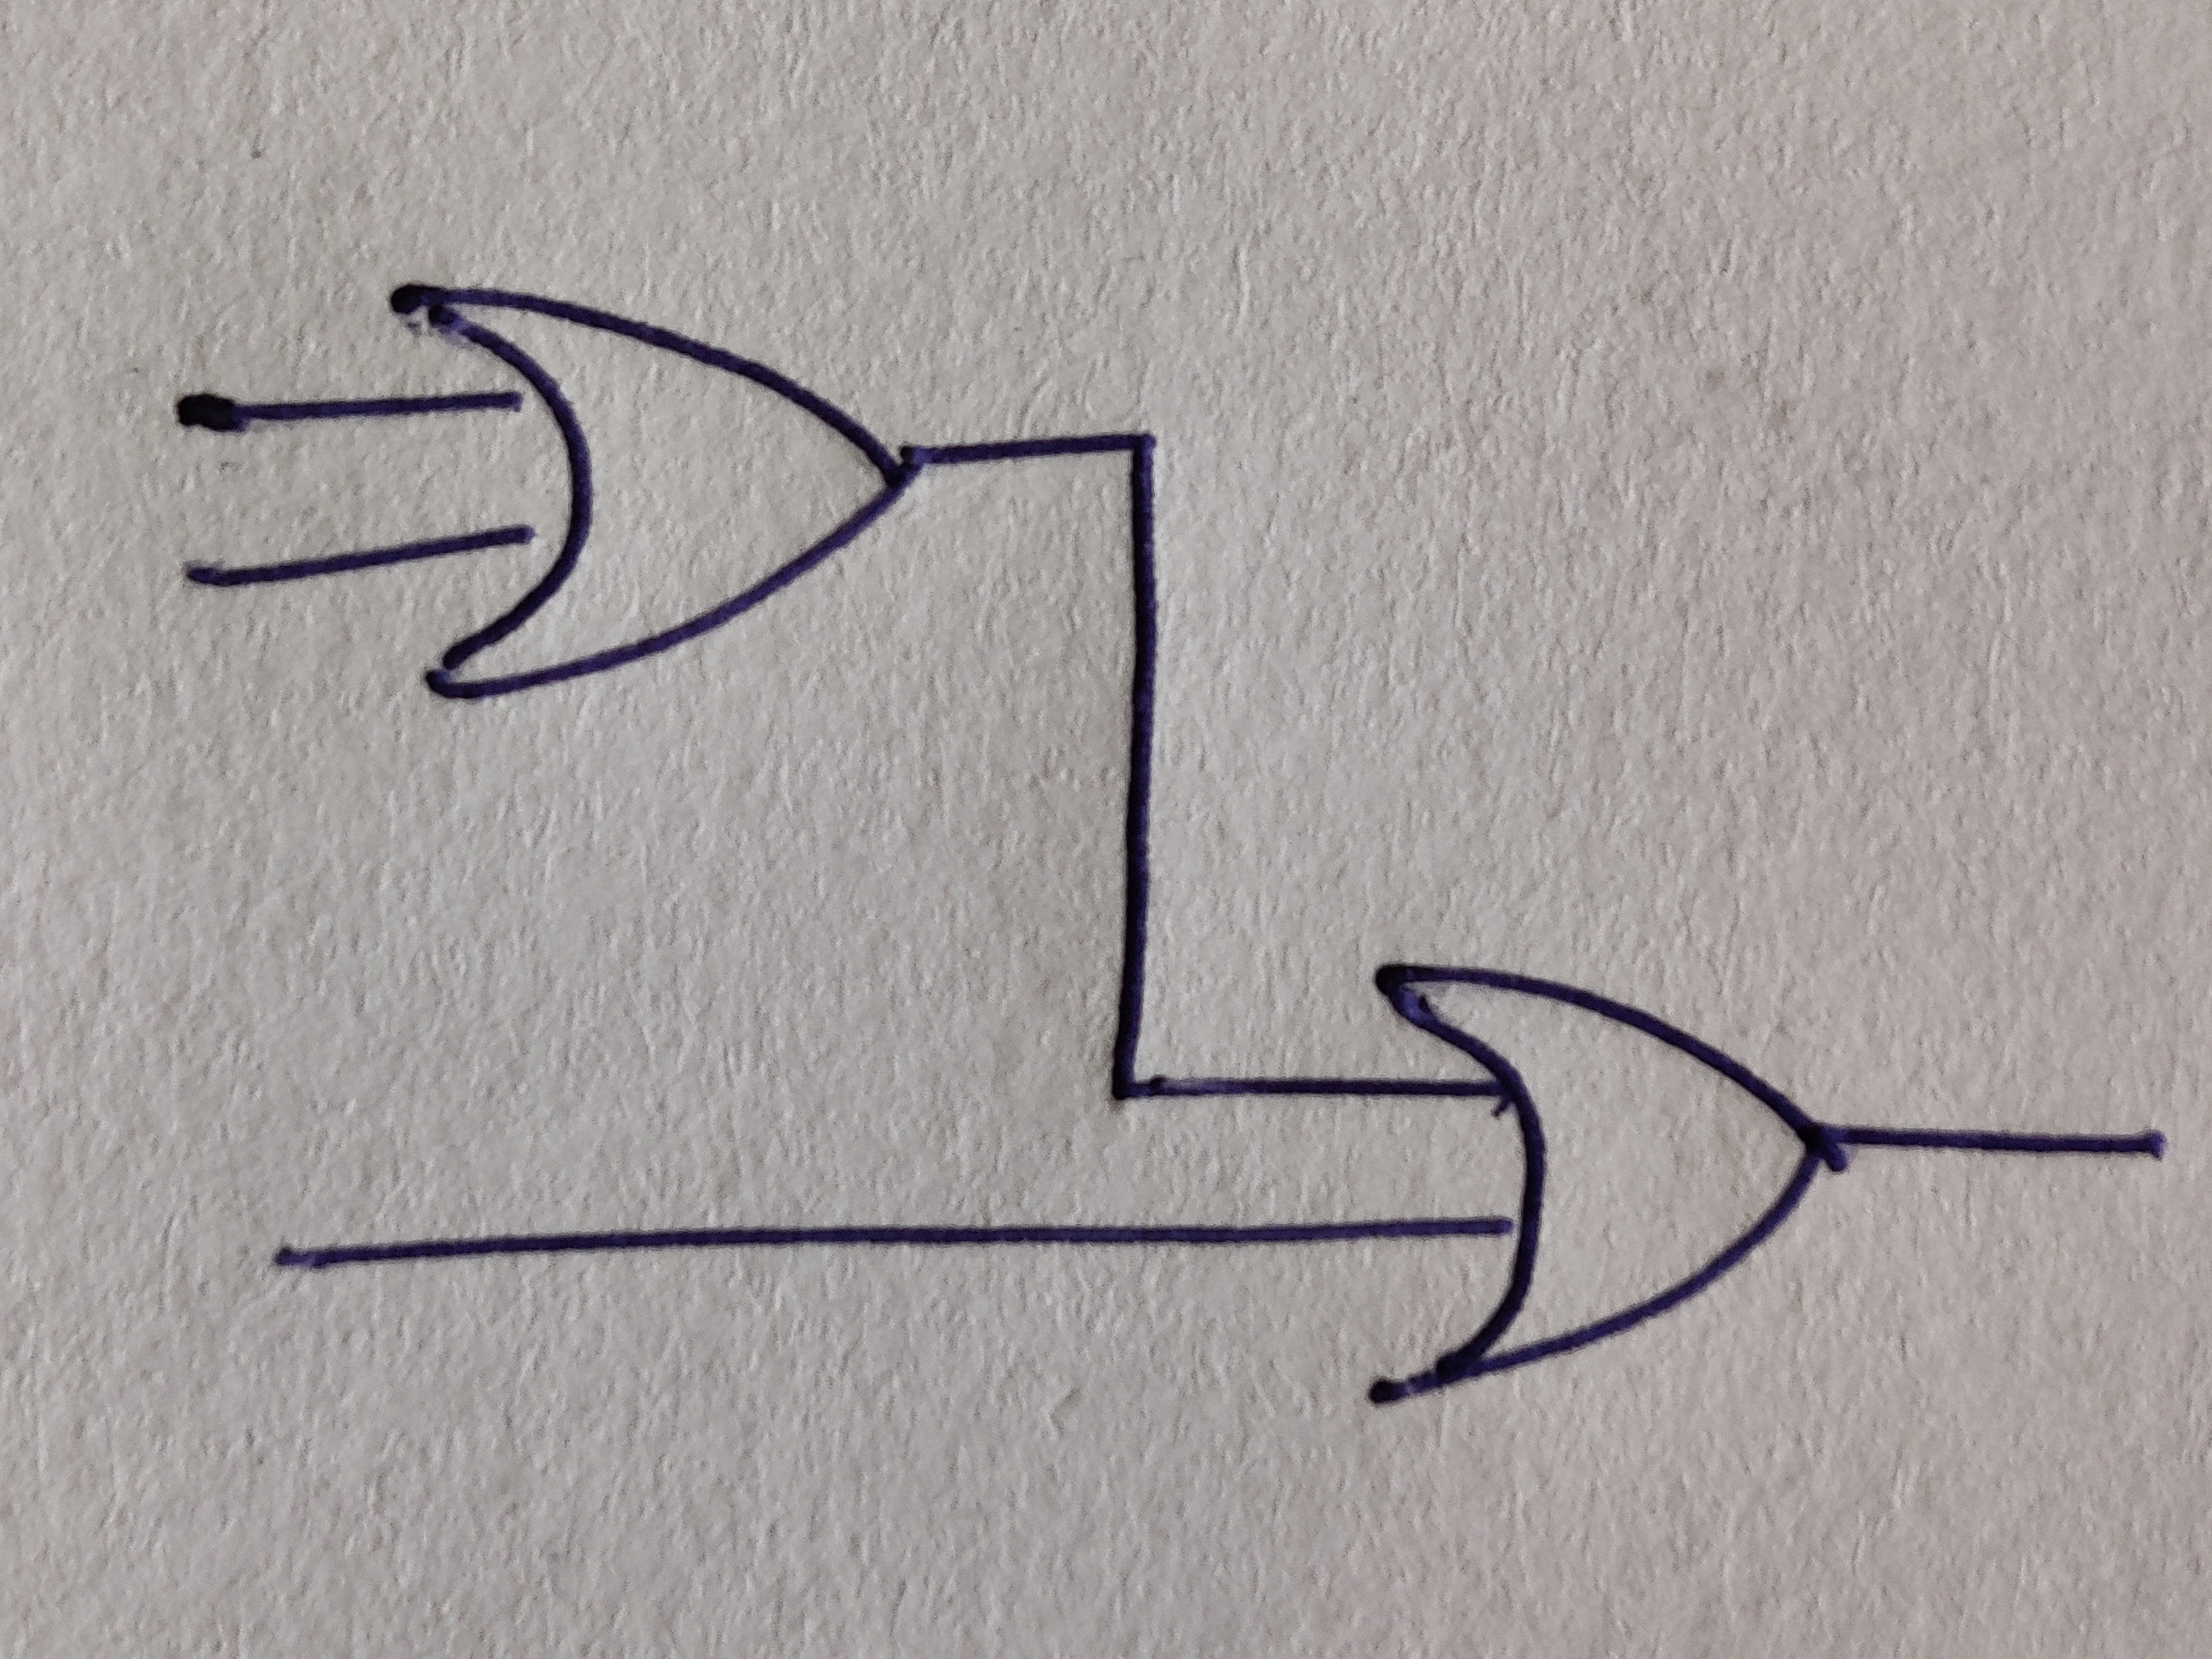or: (390, 282, 927, 701), (1369, 964, 1846, 1405)
